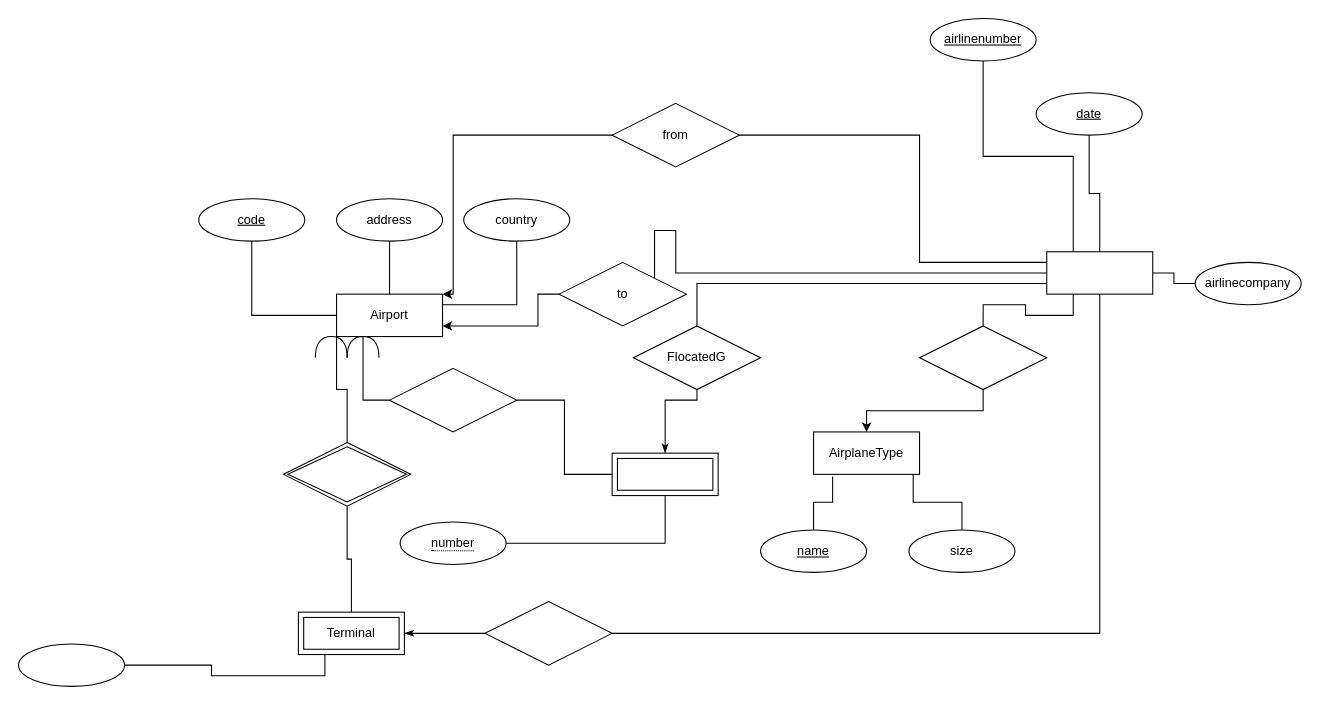
The diagram is 1320 pixels wide and 705 high, and some of its shapes have lost their labels. The shapes that lost their labels are listed below. From the top down, each one's centre as x and y in pixels, then its label:
(x=1099, y=272): Flight
(x=982, y=357): belonged
(x=452, y=399): GlocatedA
(x=346, y=473): TlocatedA
(x=664, y=474): Gate
(x=548, y=632): FlocatedT
(x=71, y=664): id
